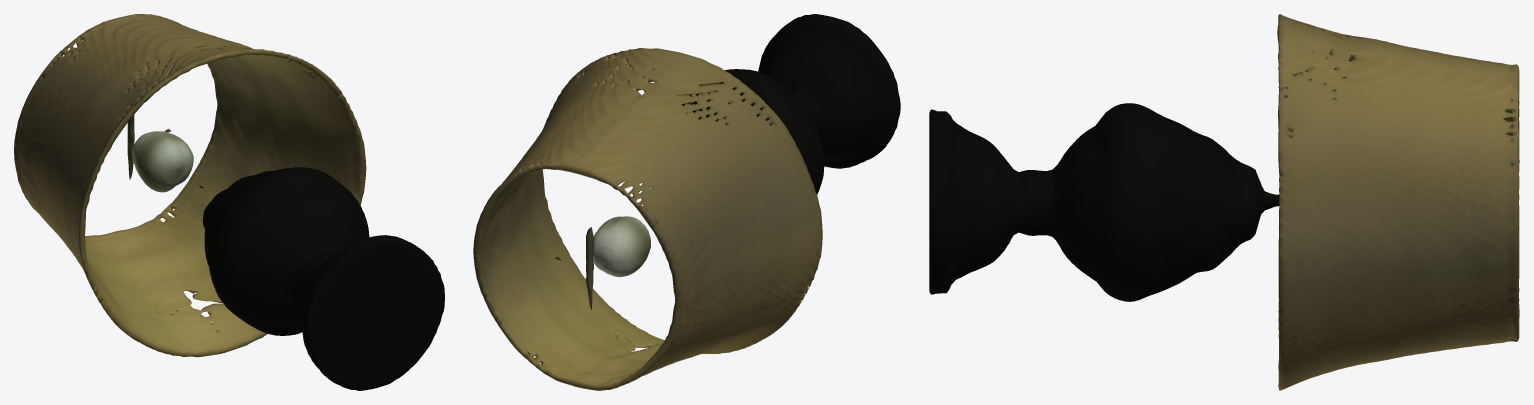
Rendered from Lamp.FBX.
The picture shows the model from 3 angles, left to right: view 1: azimuth 30°, elevation 25°; view 2: azimuth 150°, elevation 25°; view 3: azimuth 270°, elevation 25°; orthographic projection. The views are drawn at different scales.
Visible parts, largest first — view 1: plyFile; view 2: plyFile; view 3: plyFile.
Part boxes in pixels (<box>): plyFile: <box>14,14,444,390</box>; plyFile: <box>473,14,900,390</box>; plyFile: <box>929,14,1519,390</box>.
Bounding box in the file's own units: 121 × 121 × 189.
